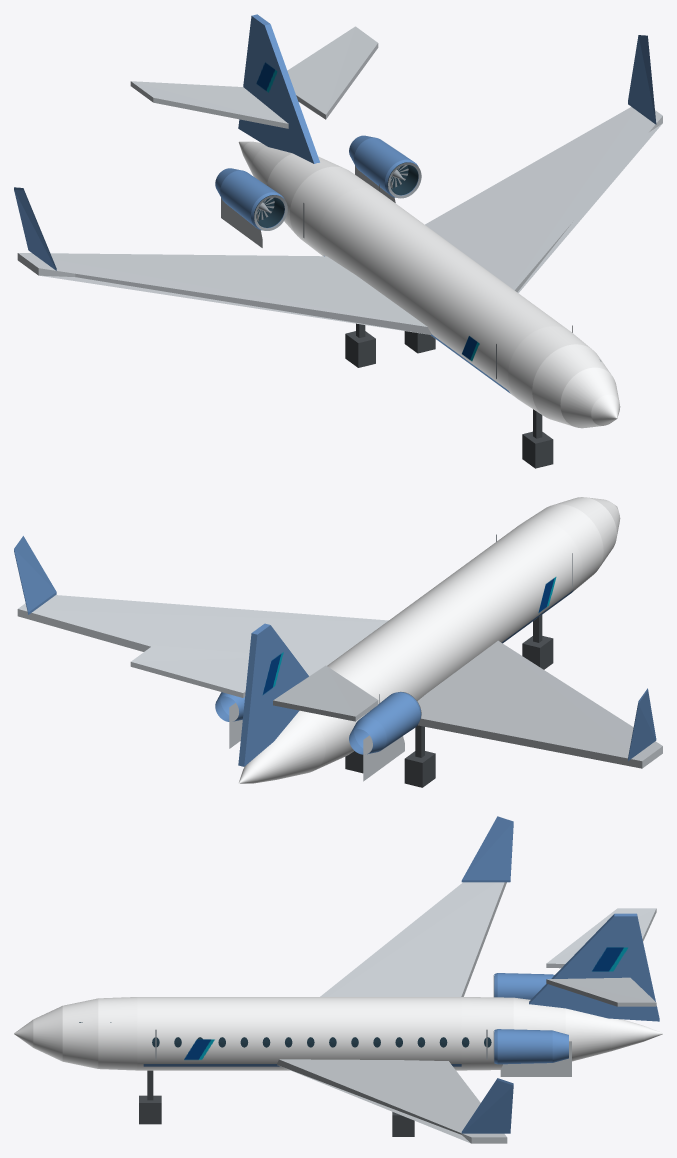
File: bizjet-ANA-v3.gltf
3 renders of one model, top to bottom at view 1: azimuth 30°, elevation 25°; view 2: azimuth 150°, elevation 25°; view 3: azimuth 270°, elevation 25°, orthographic. The views are drawn at different scales.
Parts seen in each view (by area): view 1: object 1, Gear; view 2: object 1, Gear; view 3: object 1, Gear.
Part boxes in pixels (box(x1,y1,x2,y2)): object 1: box(14, 14, 662, 428); Gear: box(345, 323, 553, 468); object 1: box(14, 497, 662, 783); Gear: box(345, 615, 553, 787); object 1: box(14, 816, 662, 1143); Gear: box(139, 1070, 414, 1136).
Bounding box in the file's own units: 21 × 7.69 × 22.
8 materials, 1 textured.
